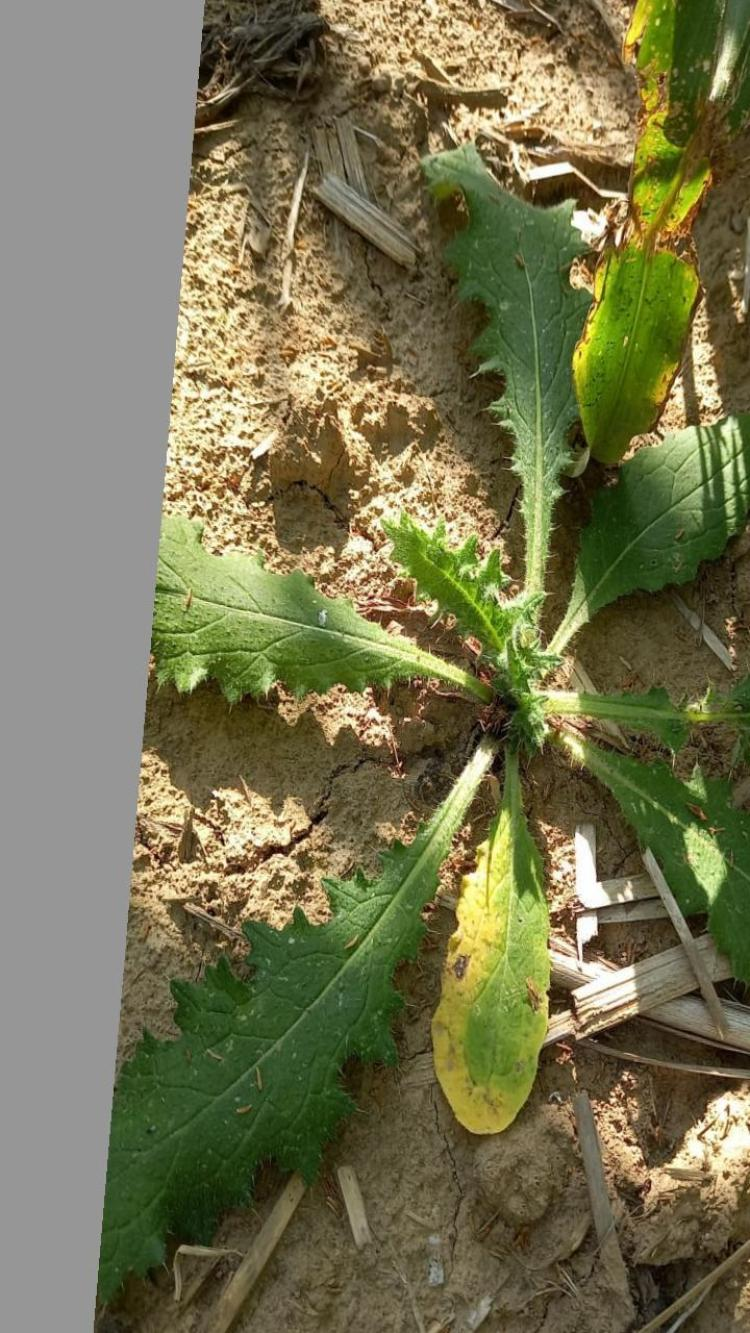osot: (102, 135, 750, 1318)
